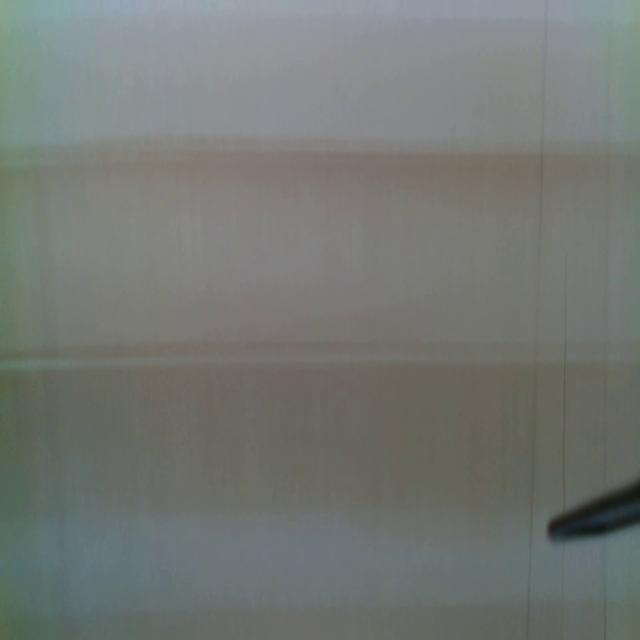color bleeding: (6, 337, 640, 433), (4, 130, 640, 222)
crease: (525, 5, 550, 639), (560, 231, 571, 506)
